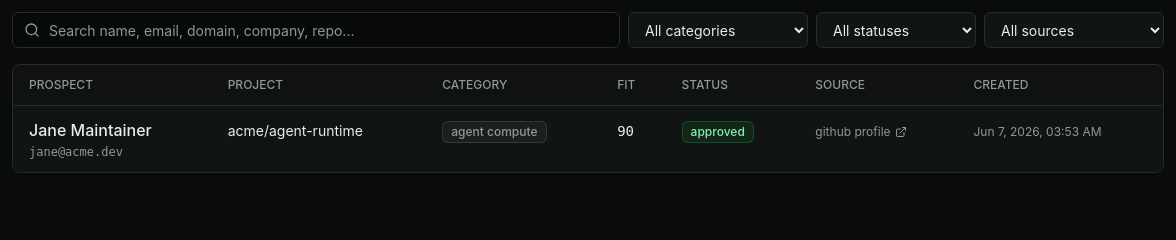
operator frontend › renders and filters the prospect table
The image size is (1176, 240).
Expected: the link "Jane Maintainer" is shown, [29,120,152,140]
Type "missing" into the field named "Search prospects".
click(316, 30); type("missing")  # box [12,12,620,48]
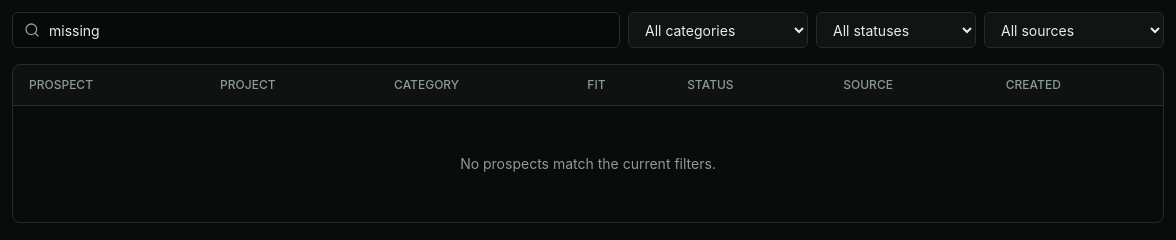
Now the text "No prospects match the current filters." is shown, box [460,155,716,172]
